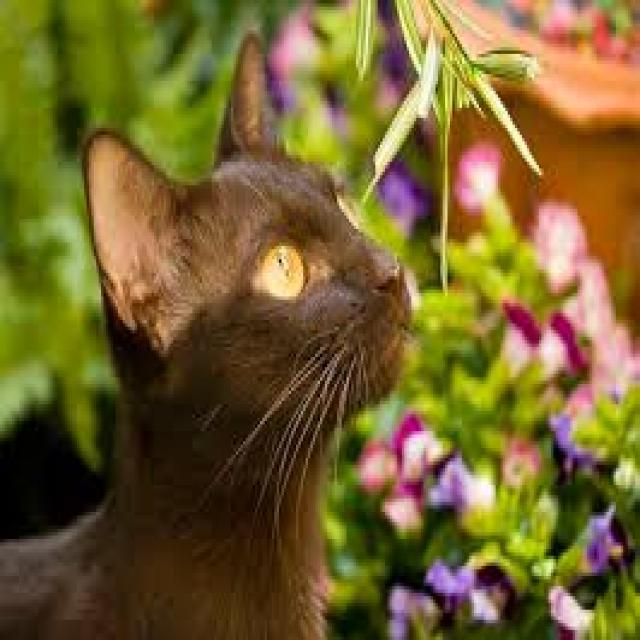Cat: (0, 31, 414, 640)
